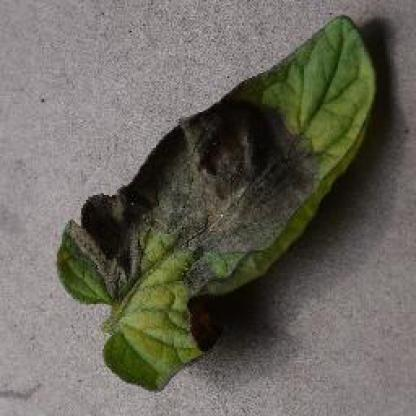bad leaf: (27, 6, 396, 390)
